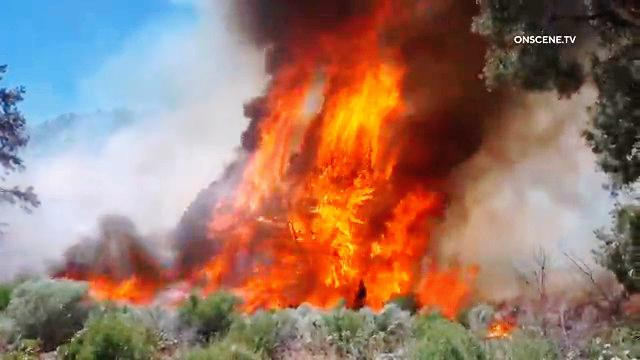fire: (214, 67, 424, 314), (318, 2, 419, 301), (93, 254, 165, 299)
smoke: (5, 142, 193, 247), (468, 100, 571, 277), (144, 26, 197, 138), (213, 2, 317, 47)
